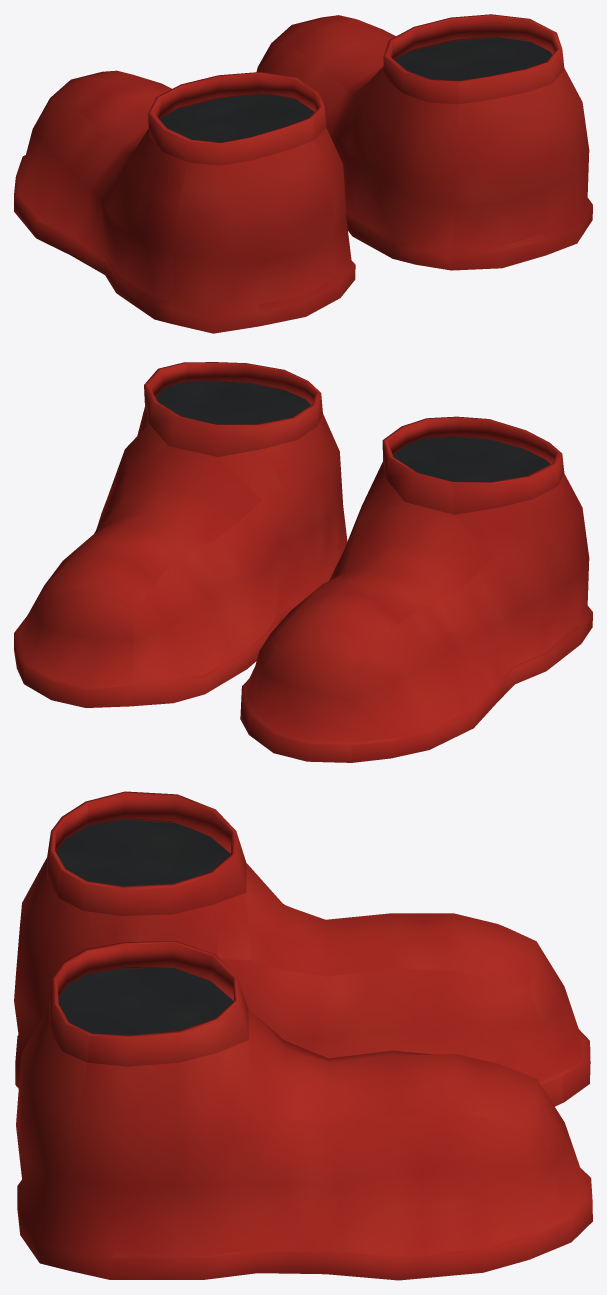
The model's file is zapatos.fbx.
3 renders of one model, top to bottom at view 1: azimuth 30°, elevation 25°; view 2: azimuth 150°, elevation 25°; view 3: azimuth 270°, elevation 25°, orthographic. The views are drawn at different scales.
Parts seen in each view (by area): view 1: Zapatos; view 2: Zapatos; view 3: Zapatos.
Part boxes in pixels (x1=…): Zapatos: x1=14, y1=14, x2=592, y2=333; Zapatos: x1=14, y1=362, x2=592, y2=762; Zapatos: x1=14, y1=791, x2=592, y2=1280.
Bounding box in the file's own units: 27.48 × 11.03 × 24.62.
